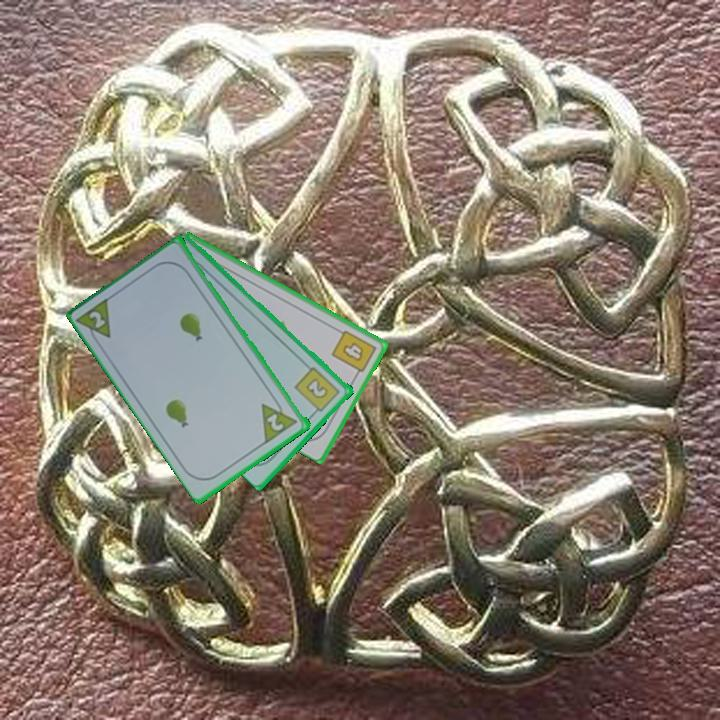2b: (291, 363, 343, 418)
2p: (263, 410, 287, 434), (86, 307, 109, 331)
4b: (328, 326, 379, 380)
